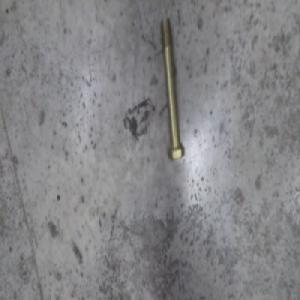Bolt: (160, 25, 186, 159)
